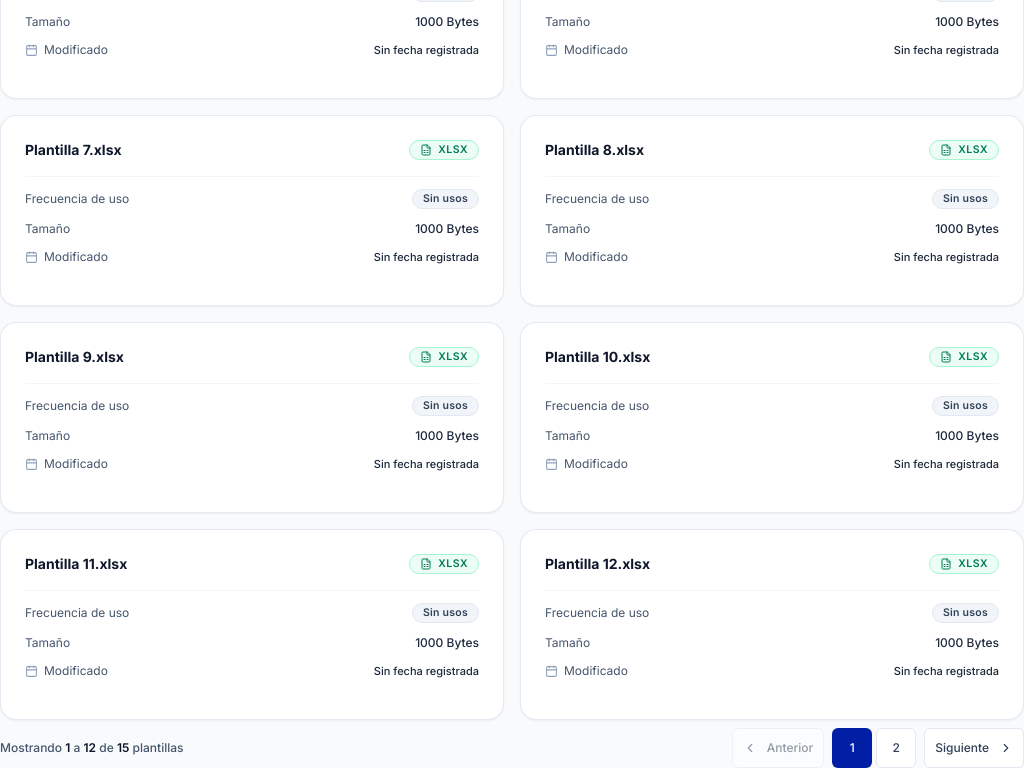
Scenario: PlantillasSeguimientoPage › resetea la pagina actual a 1 si excede el total de paginas
The width and height of the screenshot is (1024, 768).
(page scrolled)
Click the button "Siguiente".
click(974, 748)  # box [924, 728, 1023, 767]
(page scrolled)
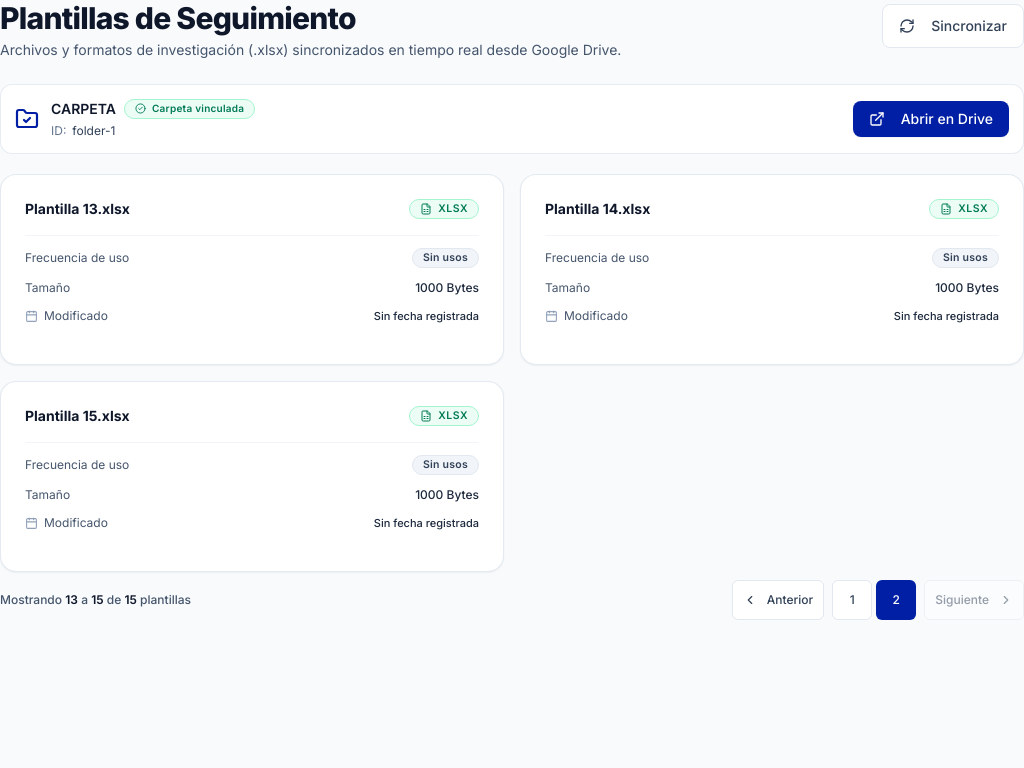
Check: the heading "Plantilla 13.xlsx" is shown, box [25, 199, 130, 219]
Click the button "Sincronizar".
click(953, 26)  # box [882, 4, 1023, 48]
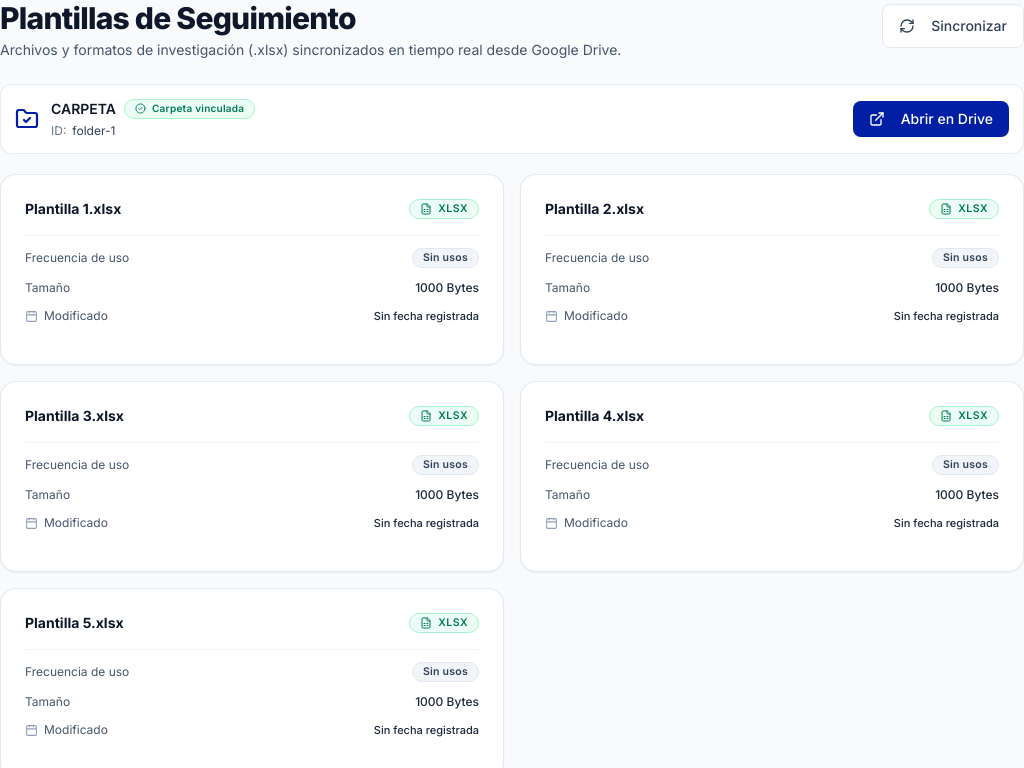
Check: the heading "Plantilla 13.xlsx" is gone
Check: the heading "Plantilla 1.xlsx" is shown, box [25, 199, 121, 219]
